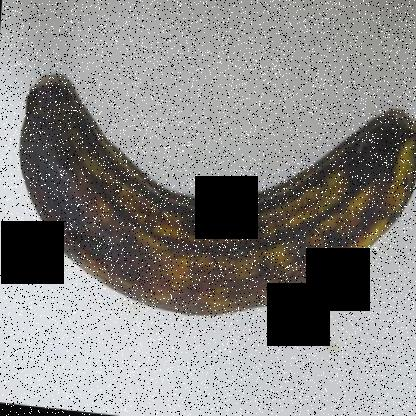overripe: (6, 56, 415, 332)
